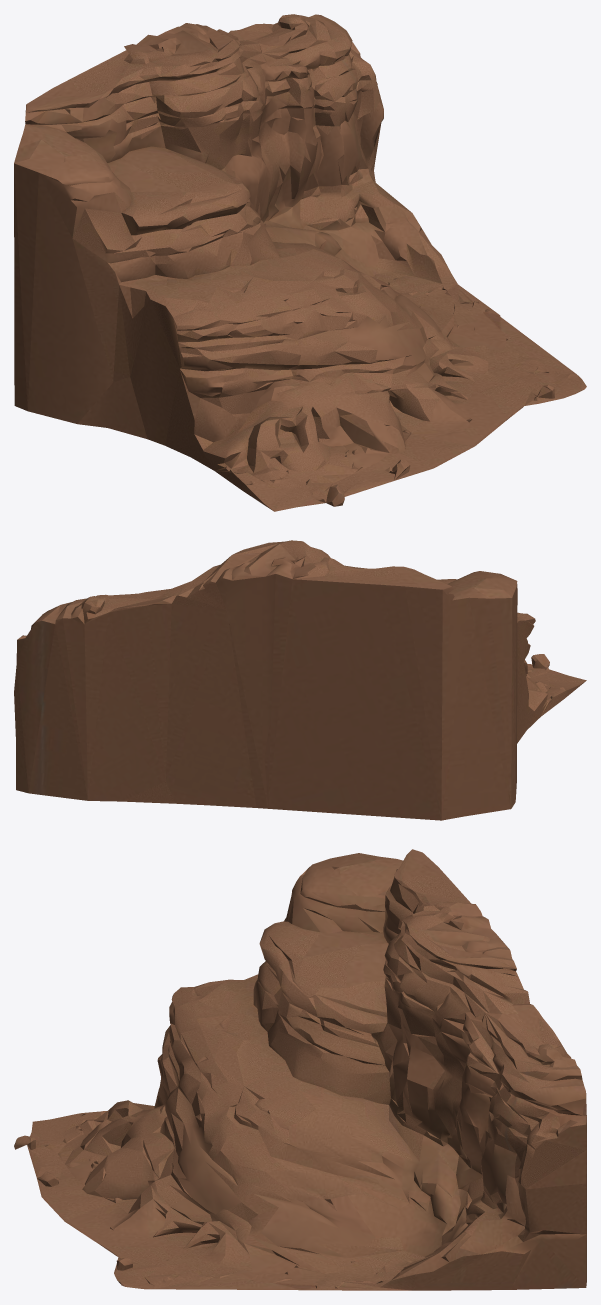
The model's file is p_rock3.glb.
3 views of the same model, one above another, from view 1: azimuth 30°, elevation 25°; view 2: azimuth 150°, elevation 25°; view 3: azimuth 270°, elevation 25° (orthographic). The views are drawn at different scales.
Size of the model in its own units: 1.65 by 0.9576 by 1.9.
Materials: 1 (1 with a texture image).
